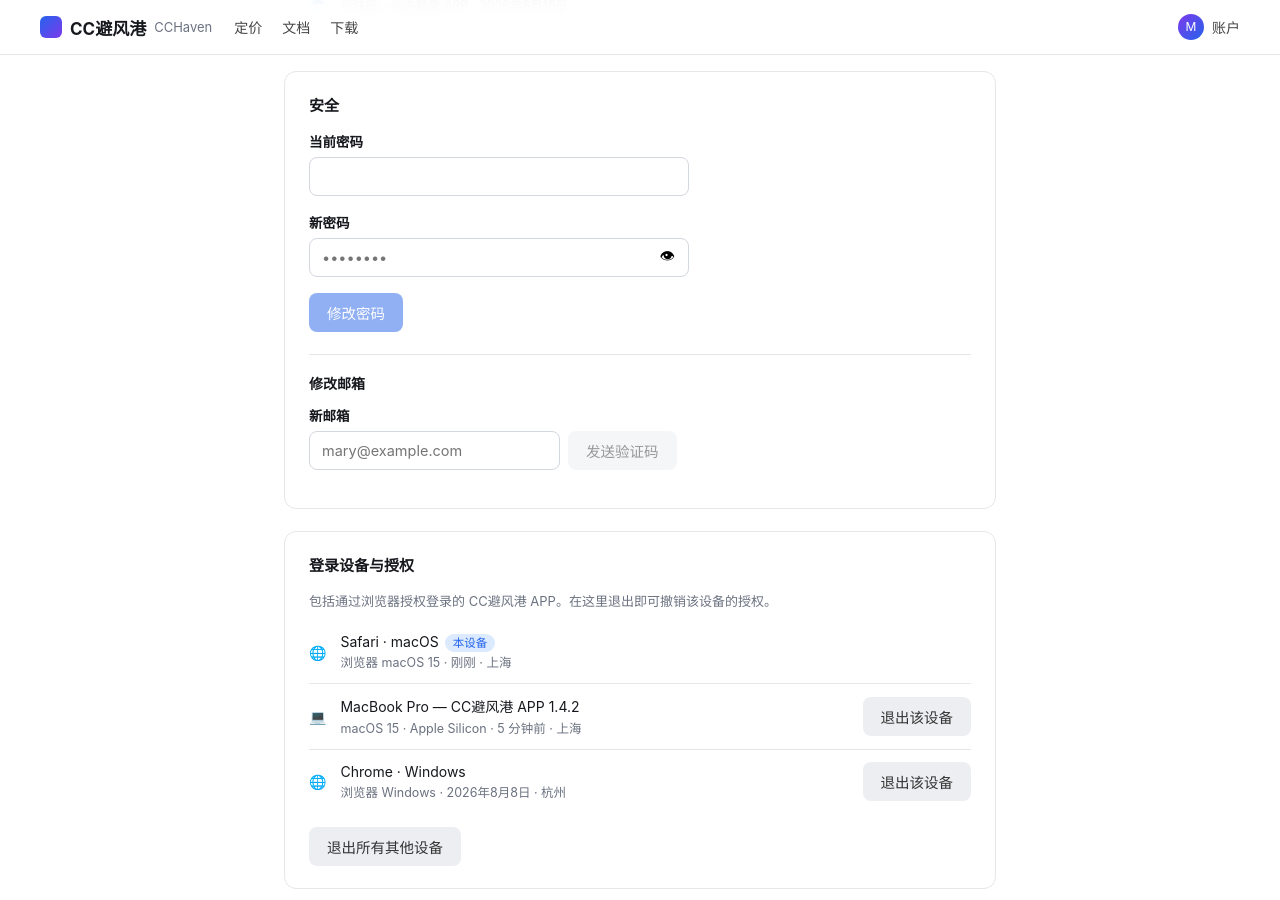
Scenario: 账户中心 /account › 已登录 › 安全 › 修改邮箱走两步：发码 → 输入验证码 → 切换
(page scrolled)
Type "new@example.com" into the field labelled "新邮箱" at (434, 450), box [309, 431, 560, 470]
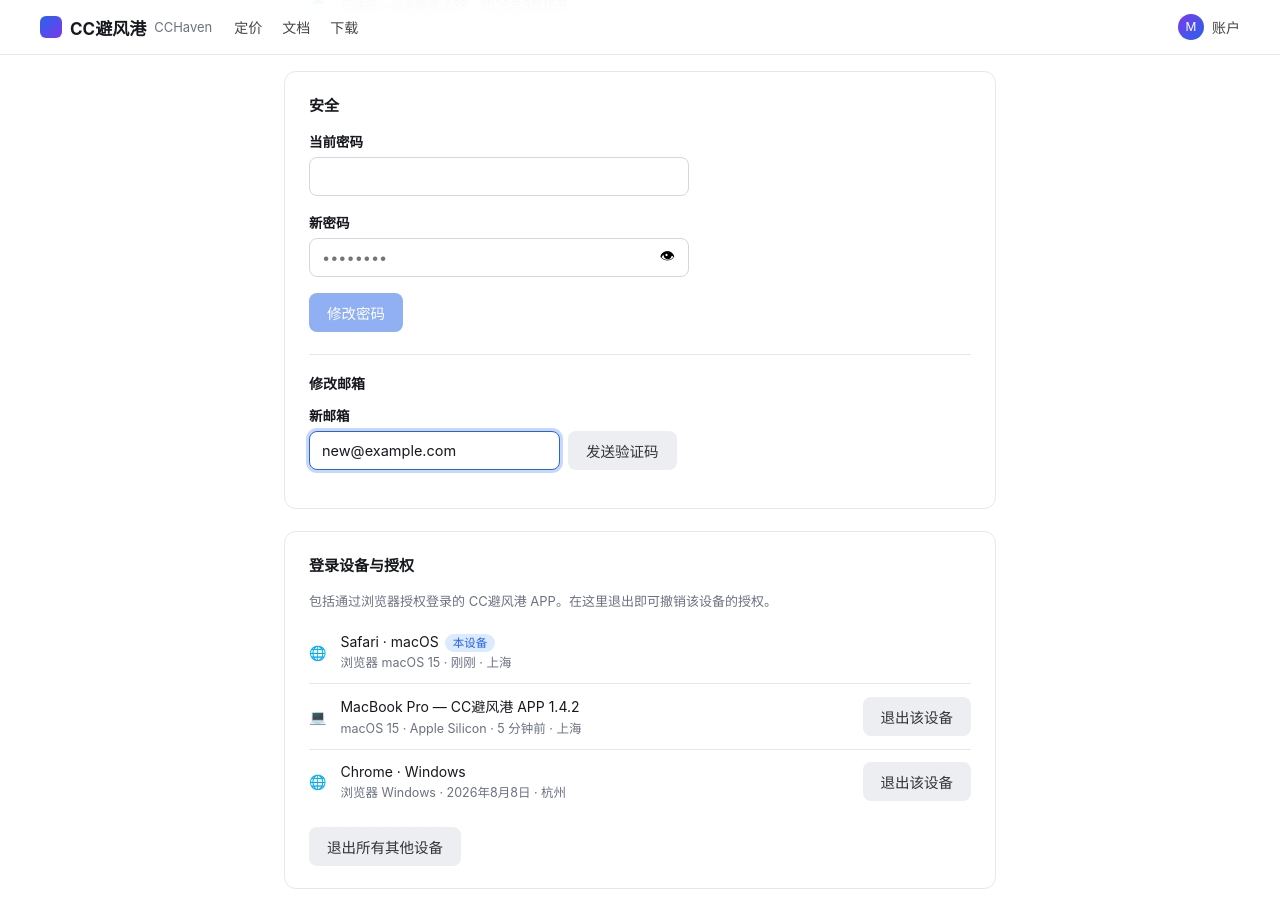
Click the button "发送验证码" at (622, 450), box [568, 431, 676, 470]
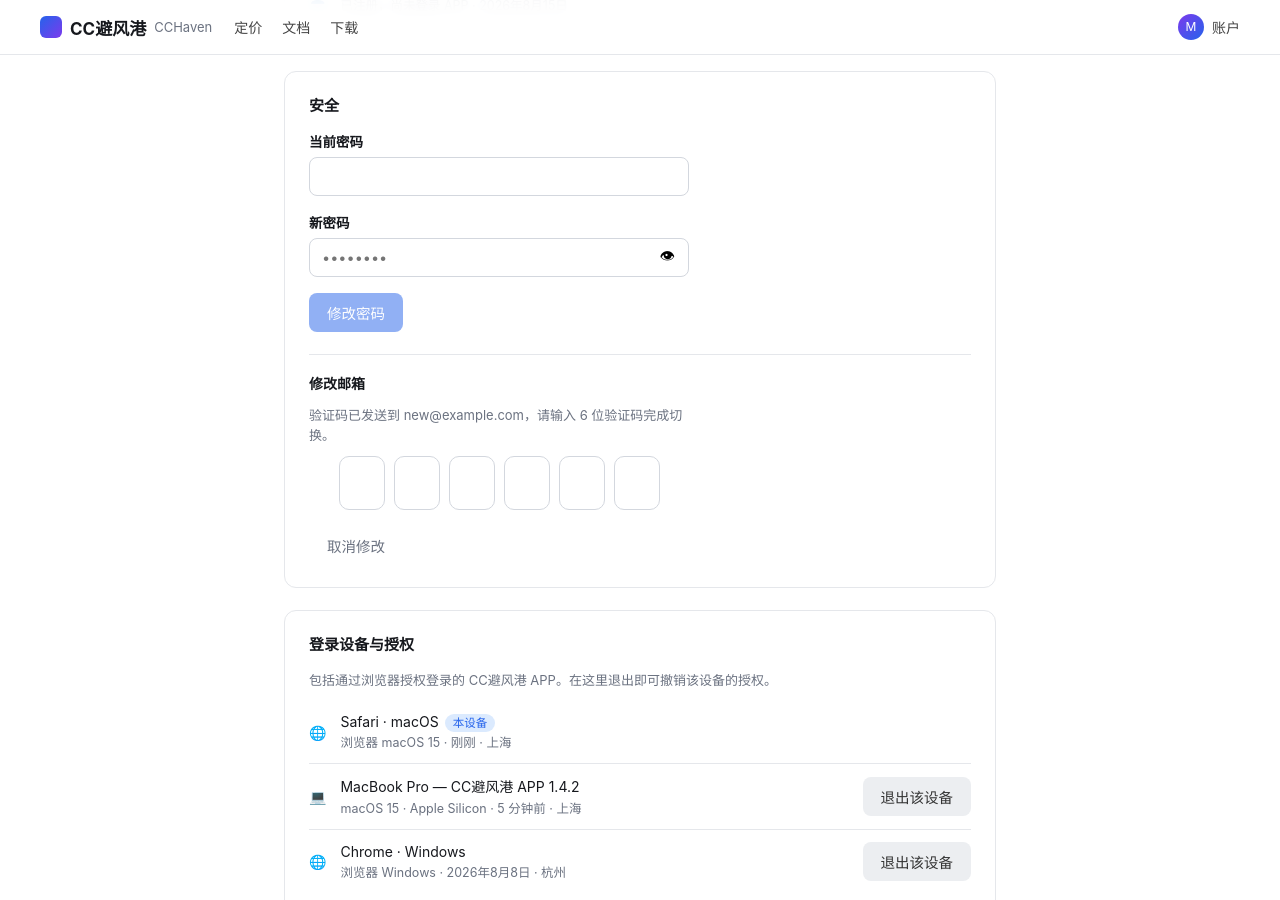
Expected: the text "验证码已发送到 new@example.com，请输入 6 位验证码完成切换。" is shown, [309, 405, 689, 446]
Click the field named "第 1 位，共 6 位" at (362, 483), box [338, 456, 384, 510]
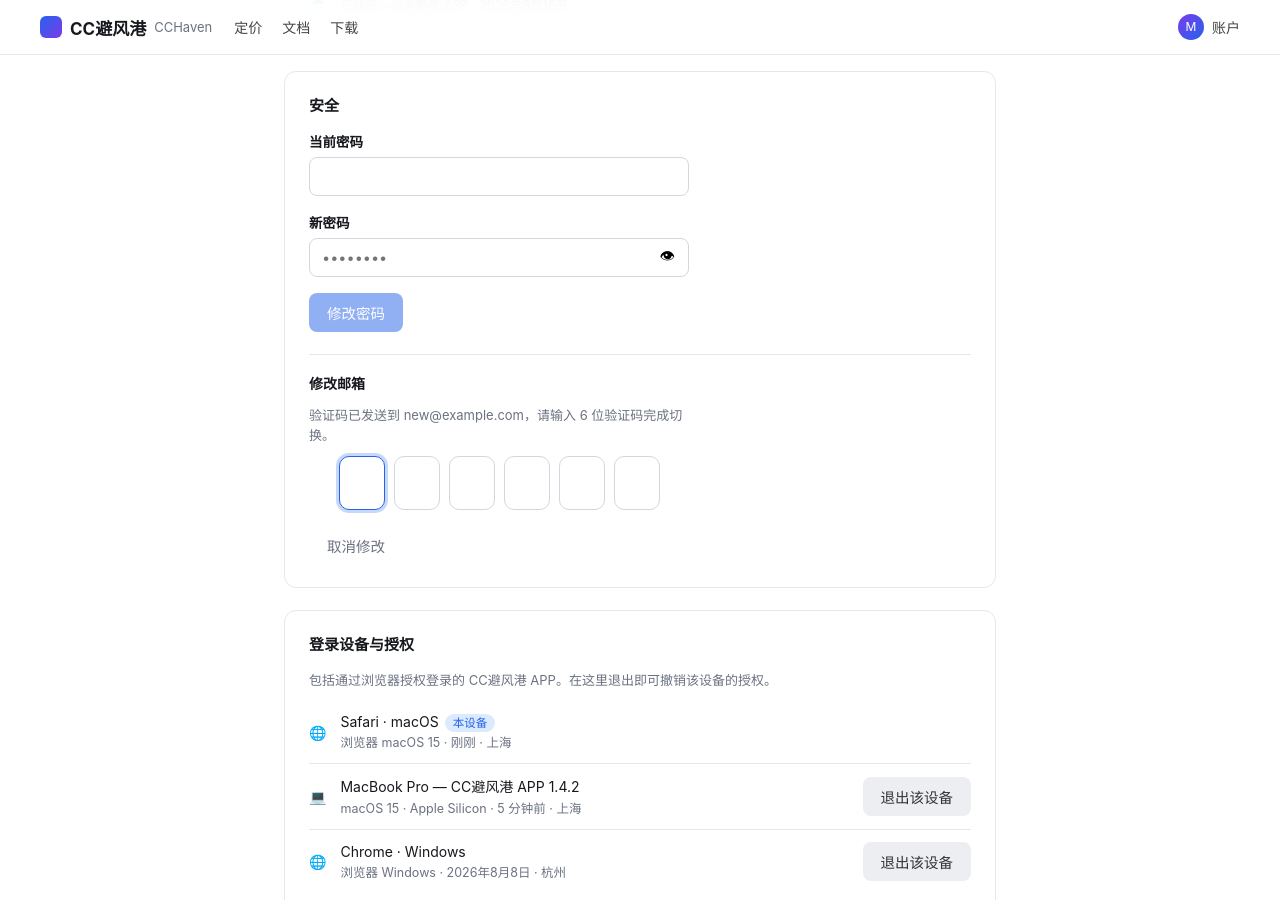
Type keys "123456"
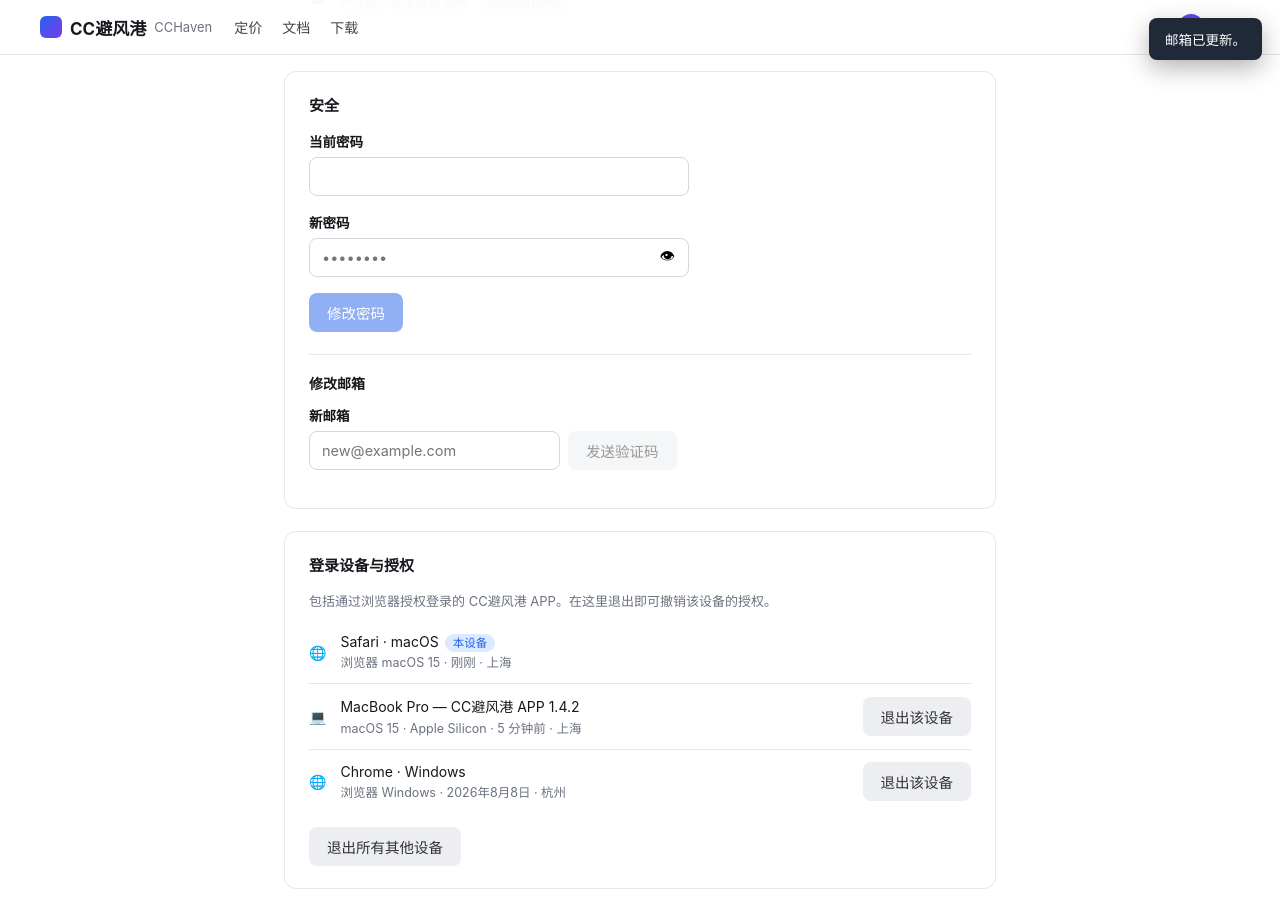
Expected: the text "邮箱已更新。" is shown, [1165, 29, 1246, 49]
